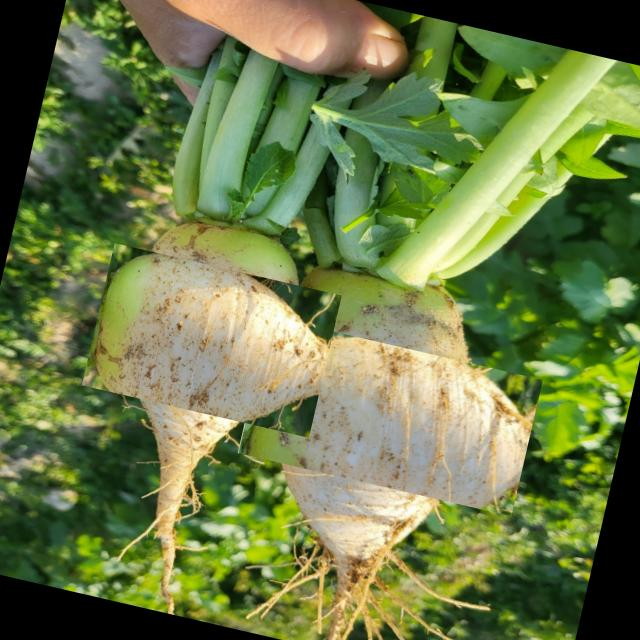radish: (264, 290, 517, 542), (97, 226, 325, 454)
